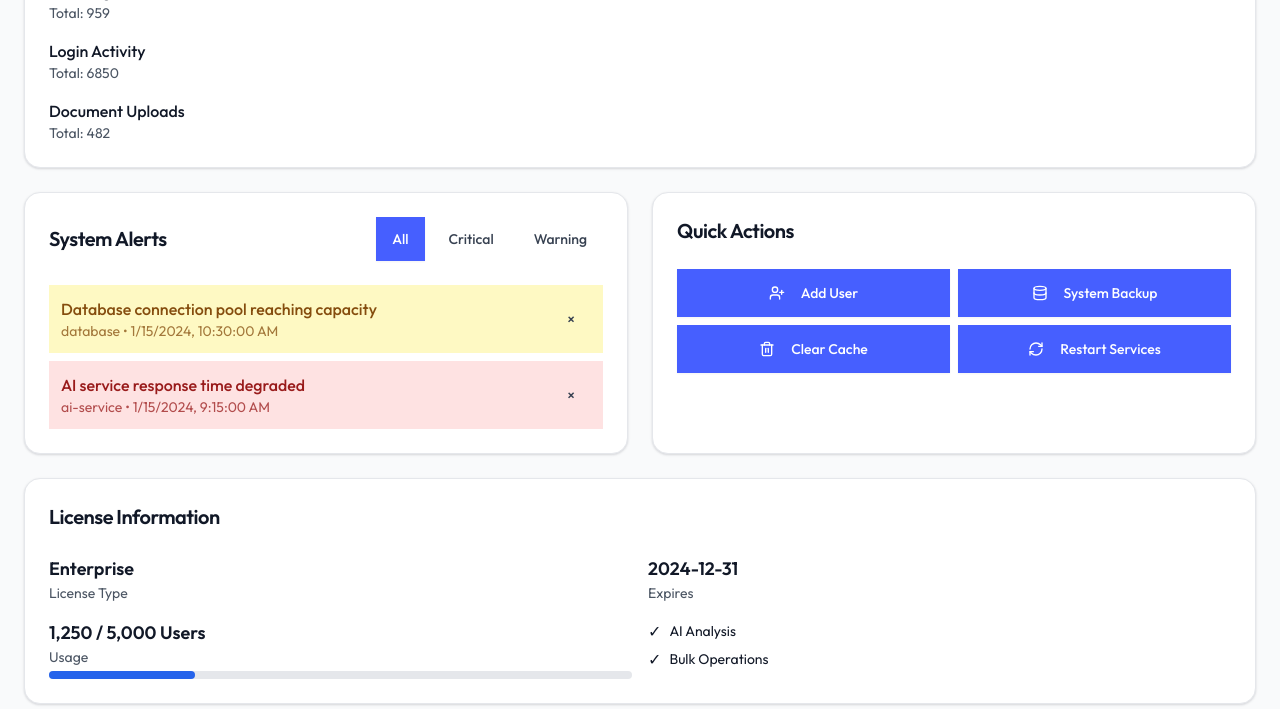
Scenario: AdminDashboardPage › Quick Actions › should show confirmation dialog for destructive actions
(page scrolled)
Step 1. Click the button with test id "quick-action-restart-services" → (1094, 349), box [958, 325, 1231, 373]
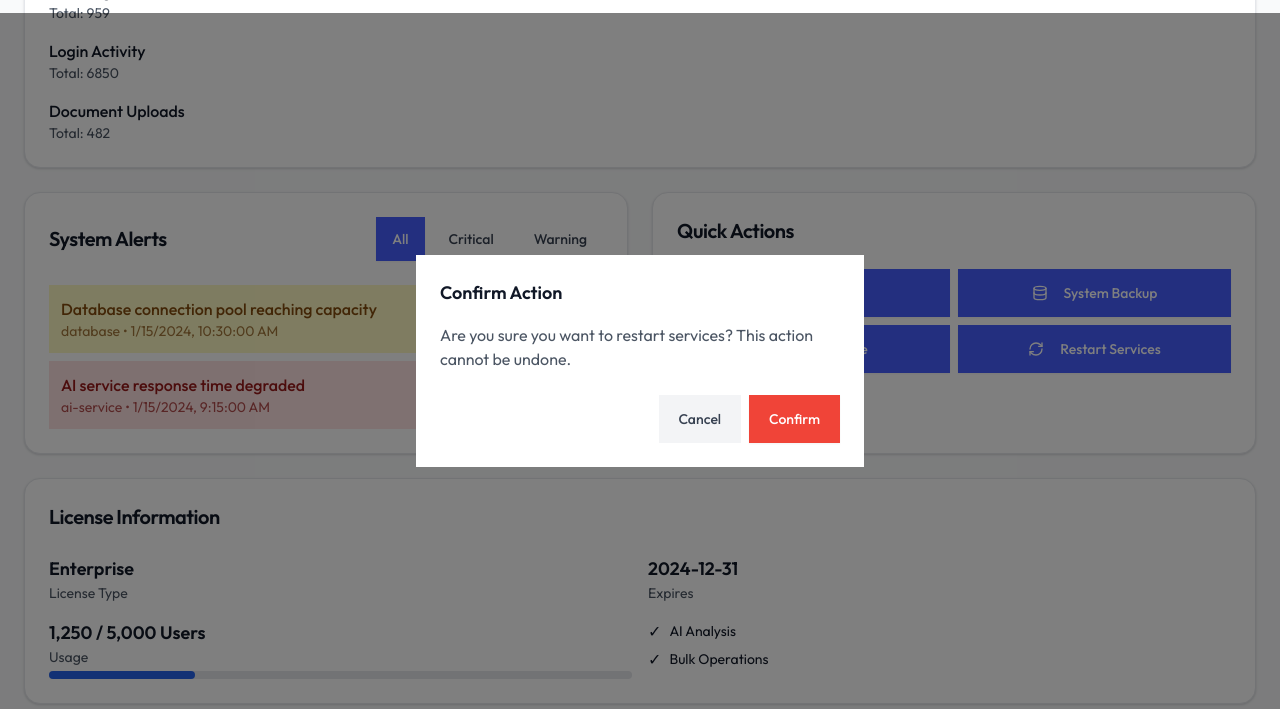
Check: the element with test id "confirmation-dialog" is shown
